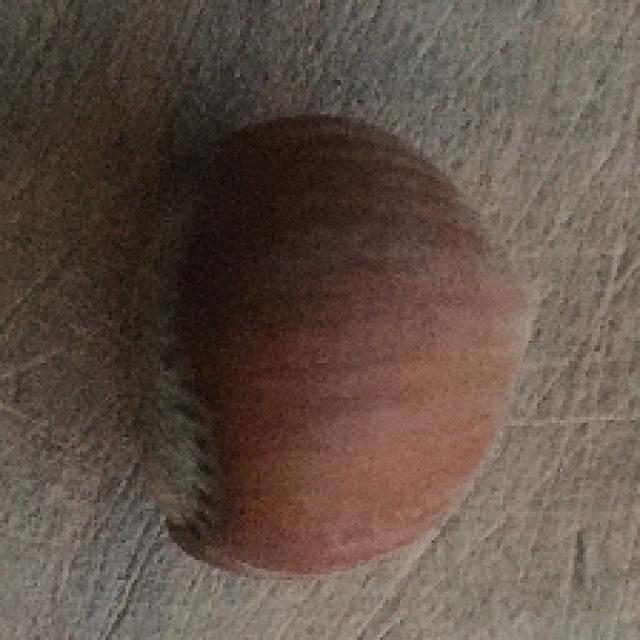qualityHazelnut: (125, 126, 539, 575)
